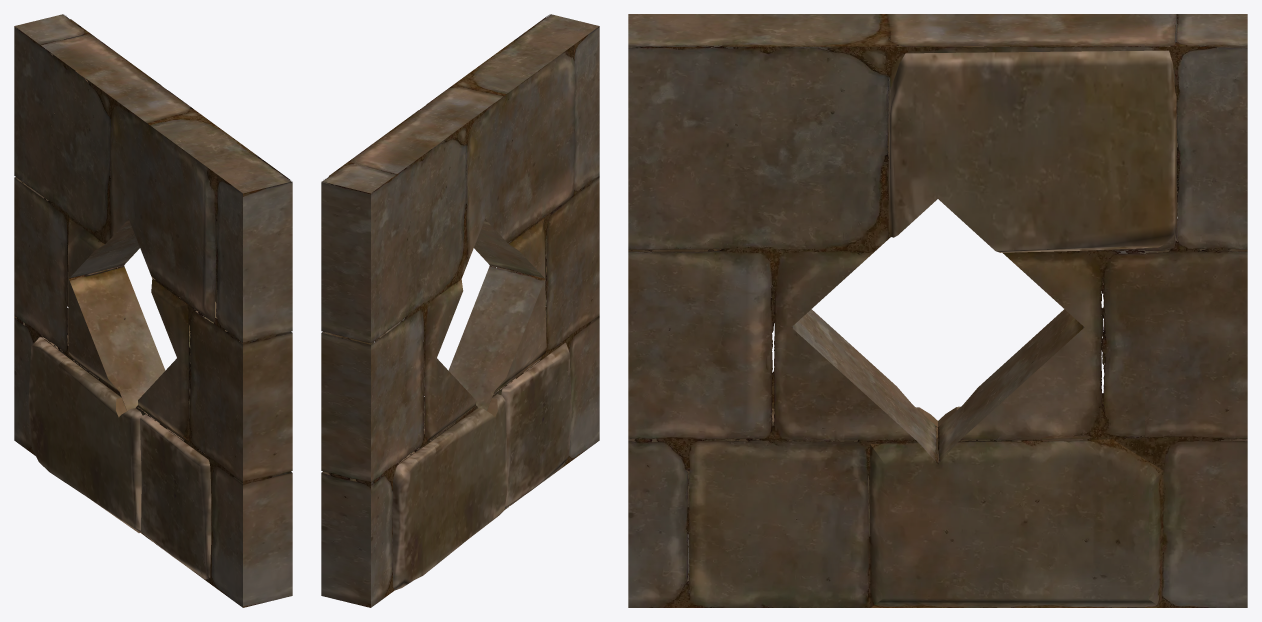
3 views of the same model, side by side, from view 1: azimuth 30°, elevation 25°; view 2: azimuth 150°, elevation 25°; view 3: azimuth 270°, elevation 25° (orthographic). The views are drawn at different scales.
Visible parts, largest first — view 1: SM_Vault_4m_Wall_Hole_01_LOD0; view 2: SM_Vault_4m_Wall_Hole_01_LOD0; view 3: SM_Vault_4m_Wall_Hole_01_LOD0.
Boxes of the visible parts, x1,y1,x2,y2 form: SM_Vault_4m_Wall_Hole_01_LOD0: (14,14,292,607); SM_Vault_4m_Wall_Hole_01_LOD0: (321,14,599,607); SM_Vault_4m_Wall_Hole_01_LOD0: (628,14,1247,607).
Bounding box in the file's own units: 0.6771 × 4 × 4.
2 materials, 2 textured.
